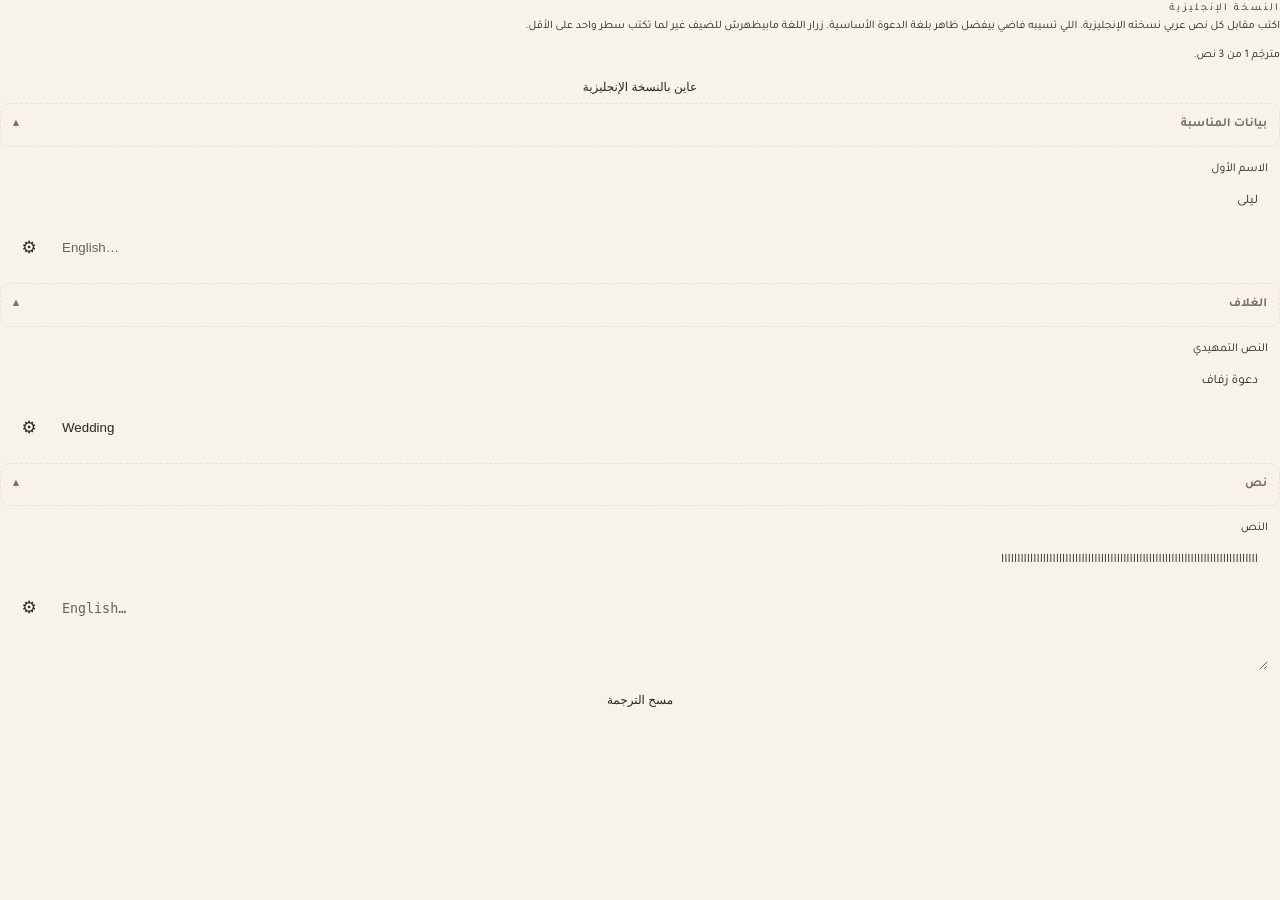
Test case: TranslationPanel › clears the whole version only after confirming
Check: the text "الغلاف" is shown, box top-left (1229, 298), bottom-right (1267, 310)
Click the button "مسح الترجمة" at (640, 700), box top-left (0, 688), bottom-right (1279, 712)
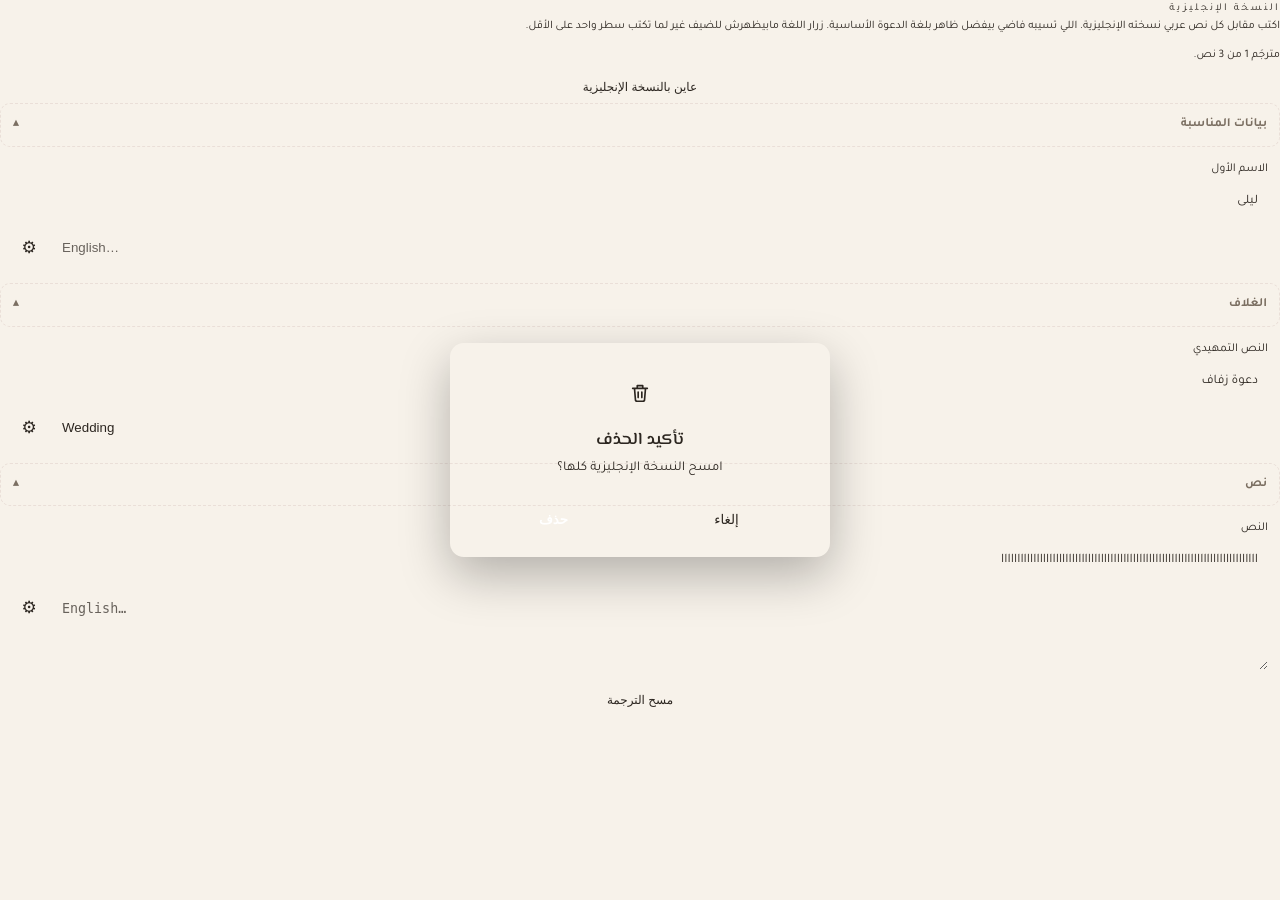
Click the button "إلغاء" at (726, 520), box top-left (645, 502), bottom-right (808, 537)
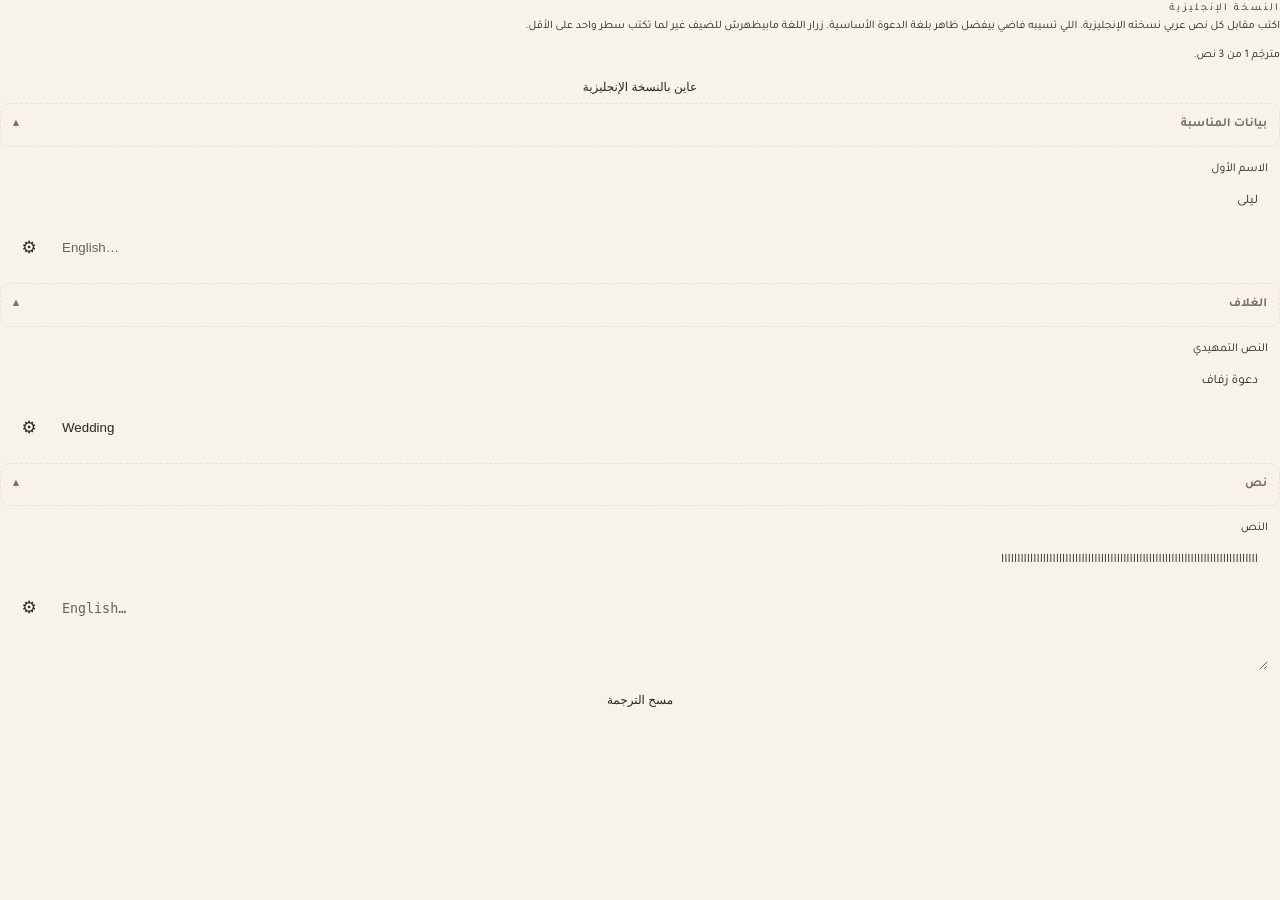
Check: the dialog is gone
Click the button "مسح الترجمة" at (640, 700), box top-left (0, 688), bottom-right (1279, 712)
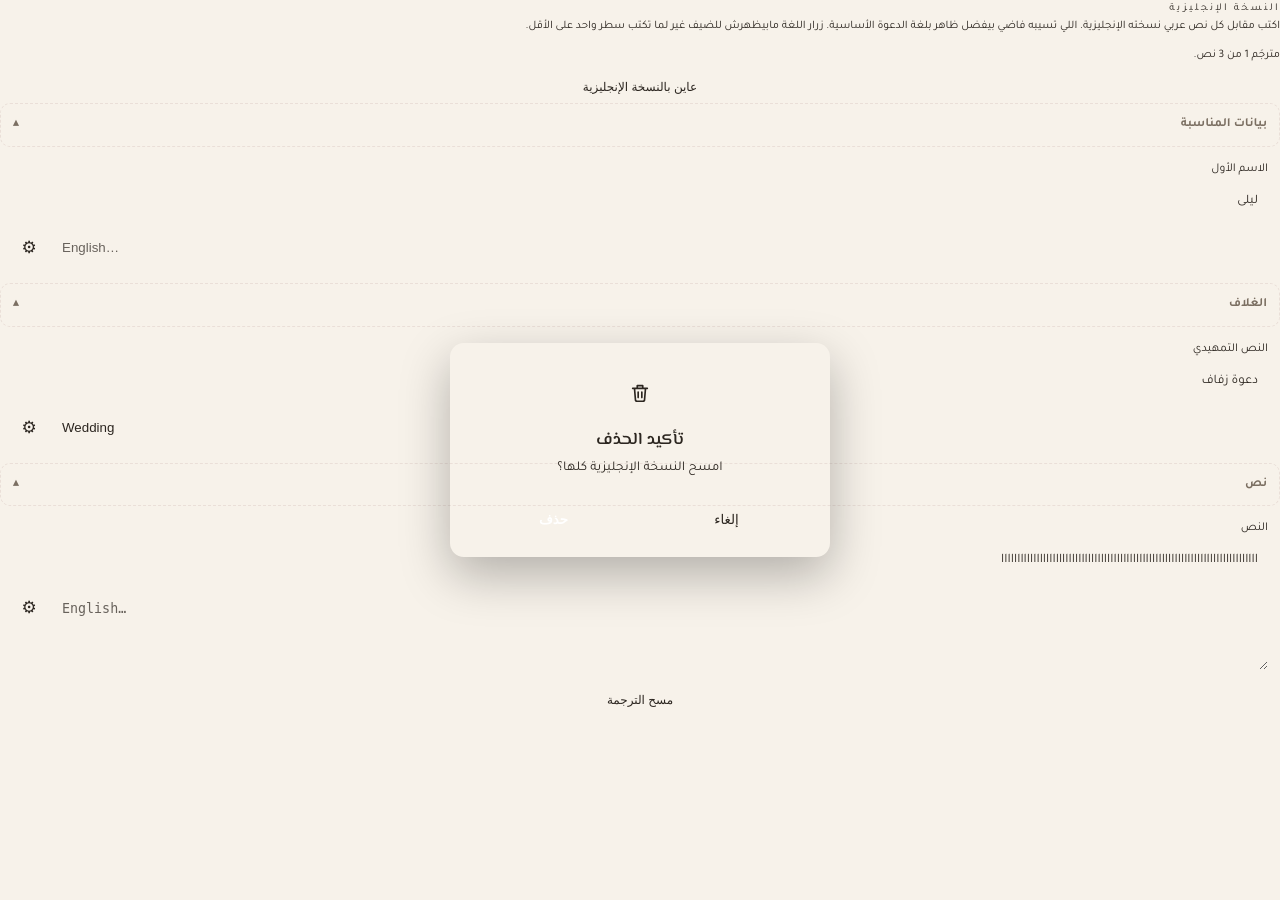
Click the button "حذف" at (554, 520), box top-left (472, 502), bottom-right (635, 537)
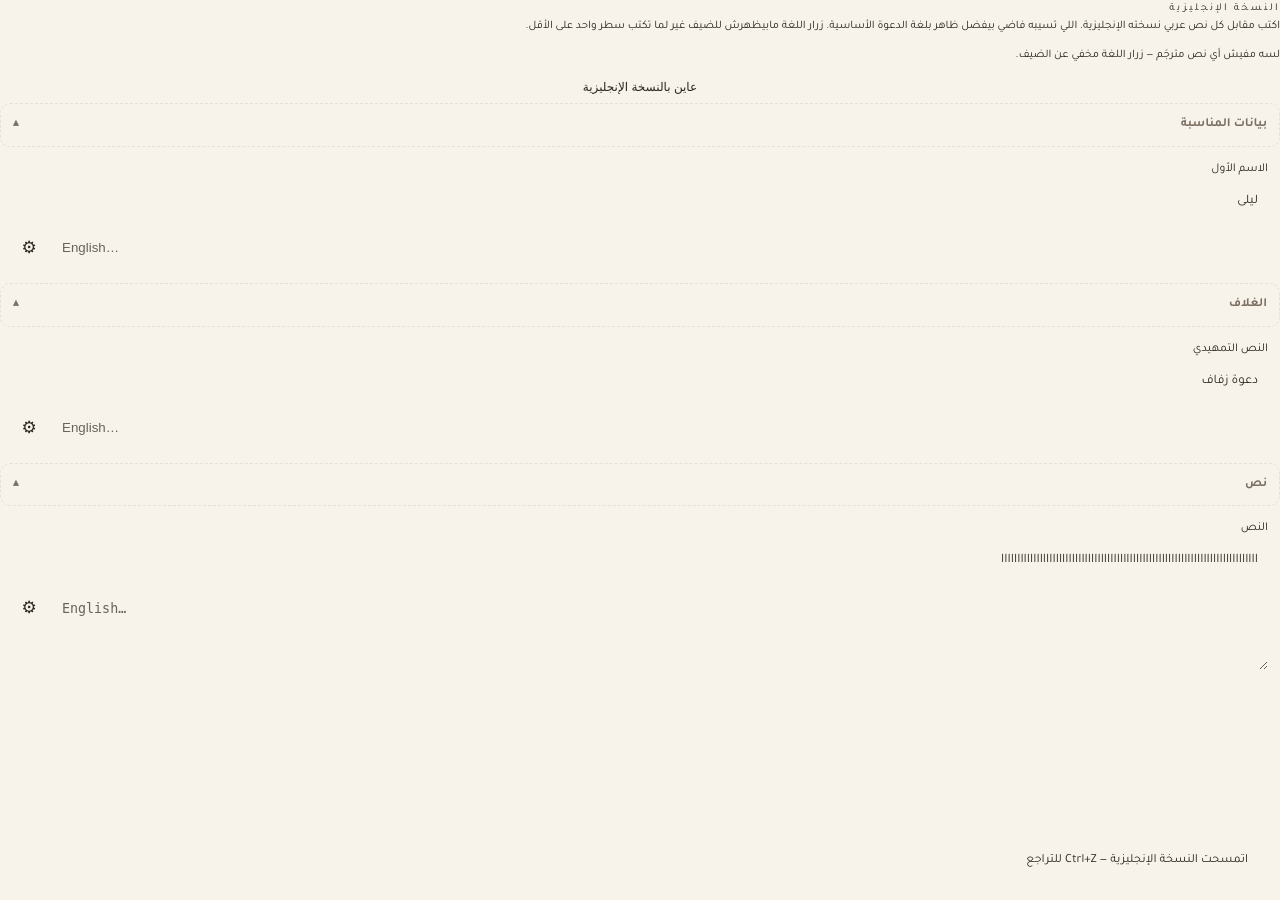
Check: the dialog is gone
